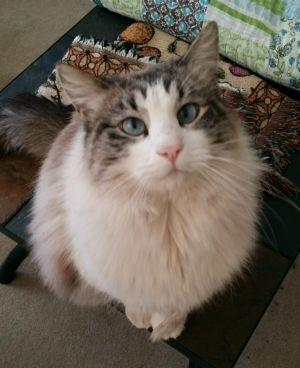ragdoll: (54, 15, 230, 204)
